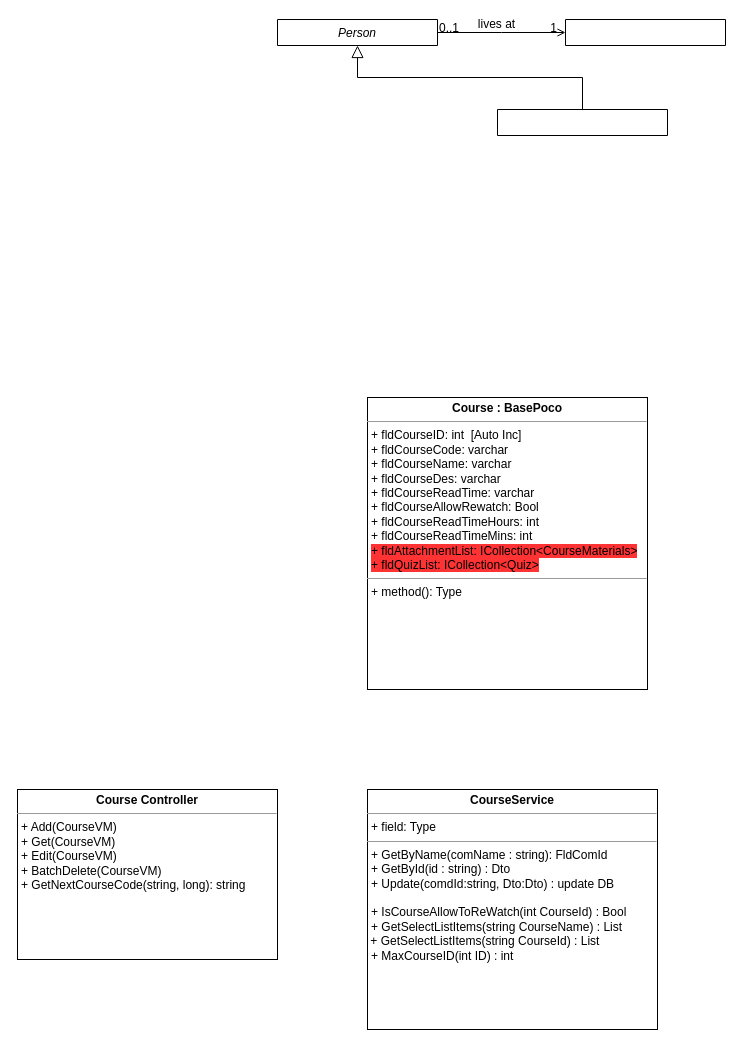
This 743x1047 diagram has some shape labels left out. The centre of each missing label's shape, as x and y in pixels:
Address: the point at 645,32
Professor: the point at 582,122
